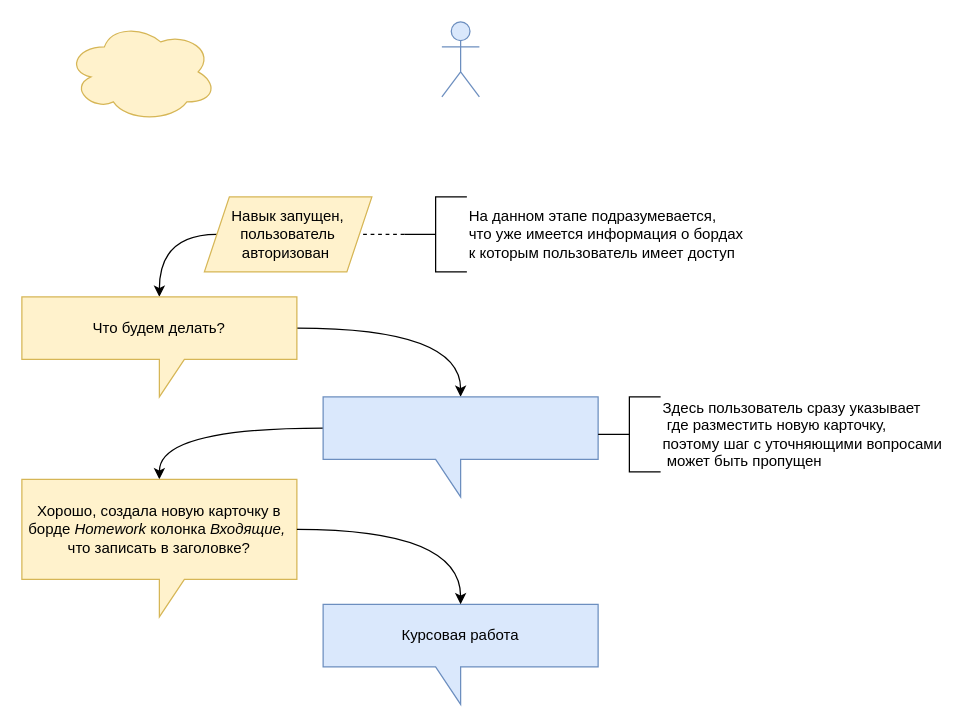
Image size: 965x726. Some labels were removed from this diagram. Here are the shapes that lost their labels. From the top down, the centre of each, then its label:
At point 141,71: "Навык VOICE CARDS".
At point 460,59: "Пользователь".
At point 460,446: "Создать новую карточку в борде Homework колонка Входящие".
